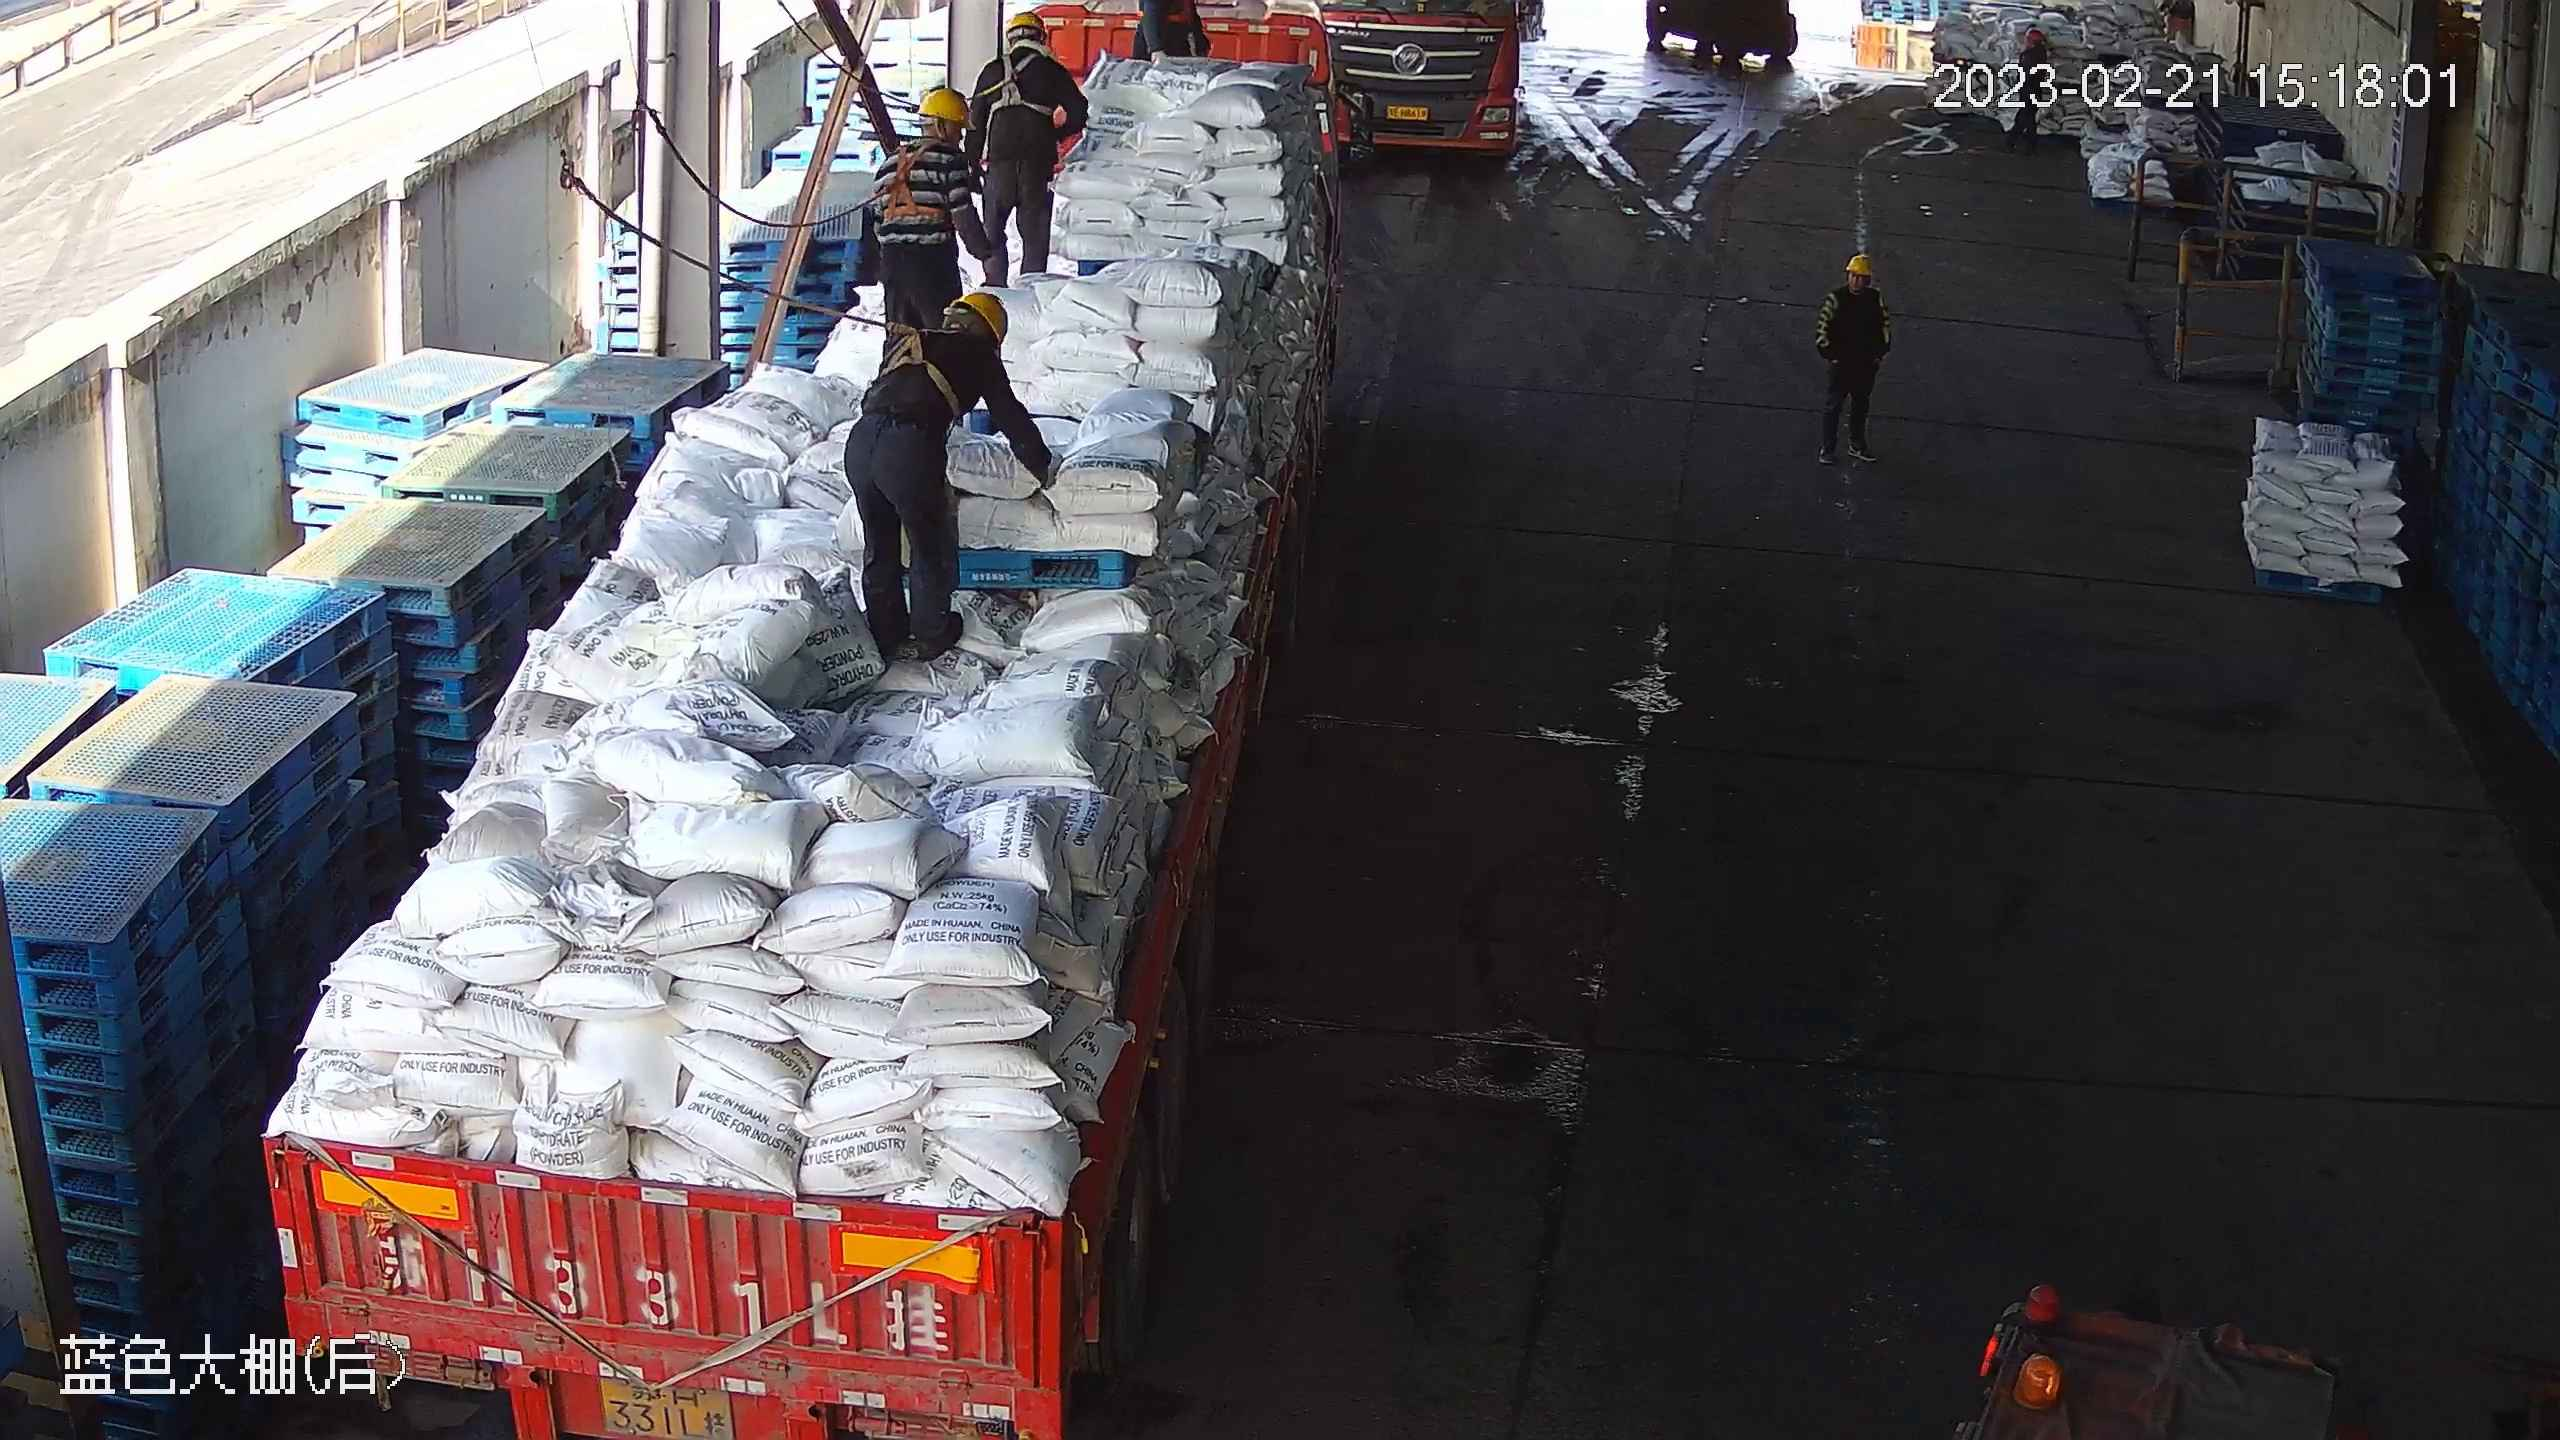belt: (871, 322, 968, 416), (874, 140, 951, 218), (974, 51, 1061, 118)
head: (889, 293, 1011, 369), (879, 86, 974, 172), (974, 11, 1070, 82), (1827, 251, 1883, 305)
helmet: (949, 292, 1007, 344), (918, 85, 968, 125), (1004, 11, 1045, 38), (1844, 254, 1873, 274)
people: (841, 293, 1061, 661), (960, 10, 1091, 287), (871, 87, 994, 368), (1815, 251, 1890, 467)
truck: (252, 1, 1346, 1432)
